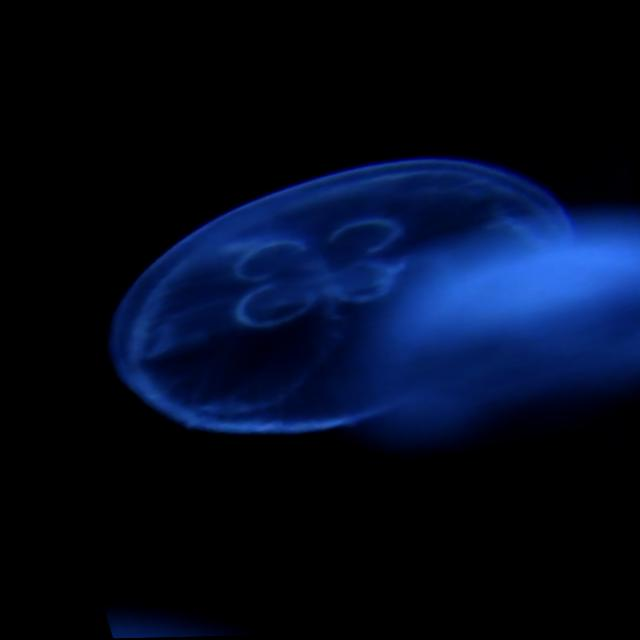Moon-jellyfish: (4, 0, 640, 637), (103, 159, 565, 433), (104, 159, 559, 433), (348, 209, 640, 446), (94, 607, 237, 639)
